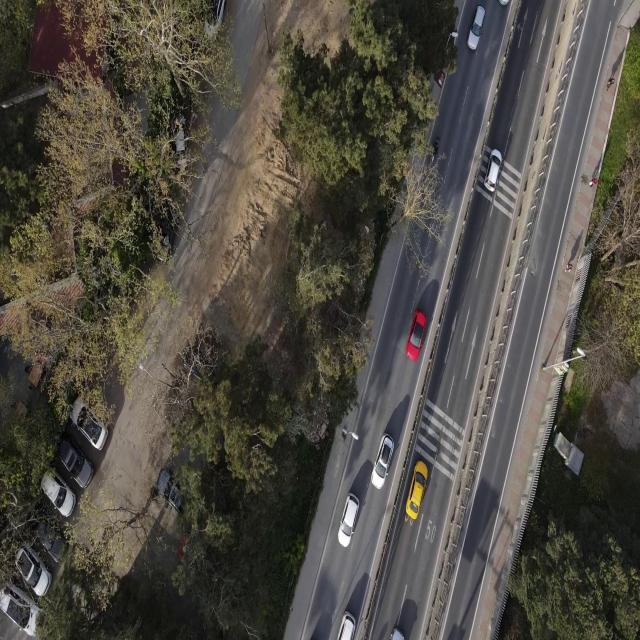p3rson: (607, 78, 614, 92), (590, 178, 599, 188), (565, 264, 573, 273)
